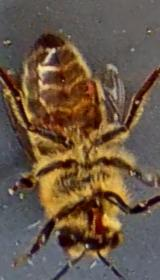varroa_mite: (73, 72, 105, 110)
